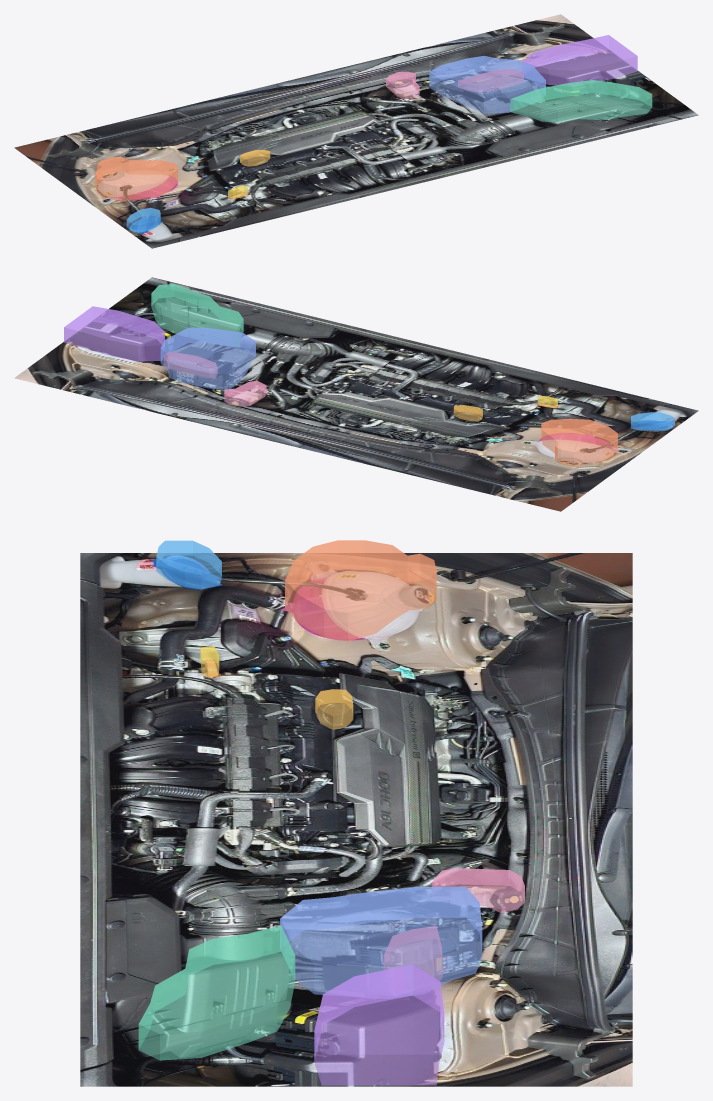
Rendered from hyundai-tucson-2025-photo-reference-inspection.glb.
3 views of the same model, one above another, from view 1: azimuth 30°, elevation 25°; view 2: azimuth 150°, elevation 25°; view 3: azimuth 270°, elevation 25° (orthographic). The views are drawn at different scales.
Parts seen in each view (by area): view 1: Source photograph, 12 V battery, Air filter housing, Fuse box, Coolant reservoir, Positive battery terminal, Brake fluid reservoir, Washer filler, Oil filler cap; view 2: Source photograph, 12 V battery, Fuse box, Air filter housing, Coolant reservoir, Positive battery terminal, Brake fluid reservoir, Washer filler, Oil filler cap; view 3: Source photograph, 12 V battery, Air filter housing, Fuse box, Coolant reservoir, Brake fluid reservoir, Washer filler, Positive battery terminal, Oil filler cap.
Part boxes in pixels (x1=…): Source photograph: x1=14, y1=14, x2=698, y2=248; 12 V battery: x1=429, y1=55, x2=545, y2=113; Air filter housing: x1=510, y1=80, x2=652, y2=122; Fuse box: x1=522, y1=35, x2=637, y2=85; Coolant reservoir: x1=95, y1=156, x2=177, y2=200; Positive battery terminal: x1=458, y1=69, x2=523, y2=92; Brake fluid reservoir: x1=386, y1=71, x2=419, y2=98; Washer filler: x1=126, y1=207, x2=160, y2=232; Oil filler cap: x1=240, y1=149, x2=270, y2=166; Source photograph: x1=14, y1=277, x2=698, y2=511; 12 V battery: x1=160, y1=327, x2=255, y2=389; Fuse box: x1=64, y1=306, x2=164, y2=361; Air filter housing: x1=151, y1=284, x2=243, y2=347; Coolant reservoir: x1=541, y1=418, x2=617, y2=466; Positive battery terminal: x1=164, y1=352, x2=217, y2=378; Brake fluid reservoir: x1=224, y1=380, x2=266, y2=406; Washer filler: x1=631, y1=412, x2=674, y2=431; Oil filler cap: x1=453, y1=405, x2=482, y2=421; Source photograph: x1=80, y1=553, x2=632, y2=1086; 12 V battery: x1=280, y1=886, x2=482, y2=996; Air filter housing: x1=138, y1=925, x2=295, y2=1060; Fuse box: x1=314, y1=964, x2=444, y2=1085; Coolant reservoir: x1=285, y1=540, x2=436, y2=641; Brake fluid reservoir: x1=431, y1=868, x2=524, y2=912; Washer filler: x1=156, y1=540, x2=221, y2=589; Positive battery terminal: x1=384, y1=926, x2=442, y2=980; Oil filler cap: x1=315, y1=689, x2=353, y2=729.
Size of the model in its own units: 1 by 0.027 by 0.437.
10 materials, 1 textured.
